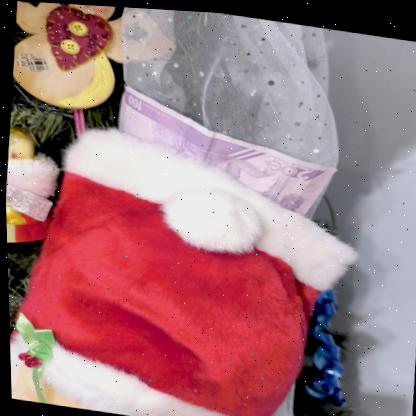one_hundred-back-vef: (111, 84, 343, 216)
